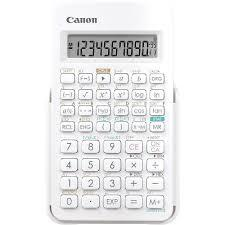Calculator: (42, 0, 184, 225)
